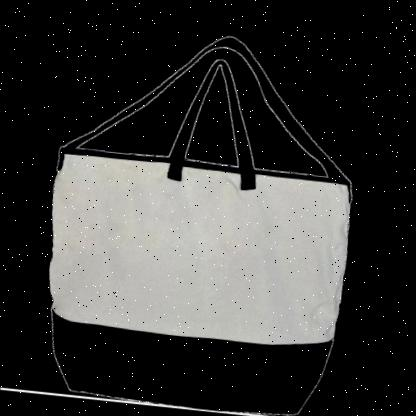bag: (34, 12, 380, 354)
